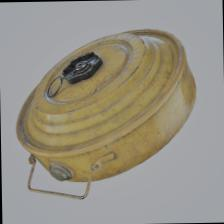TM-46: (0, 25, 199, 178)
